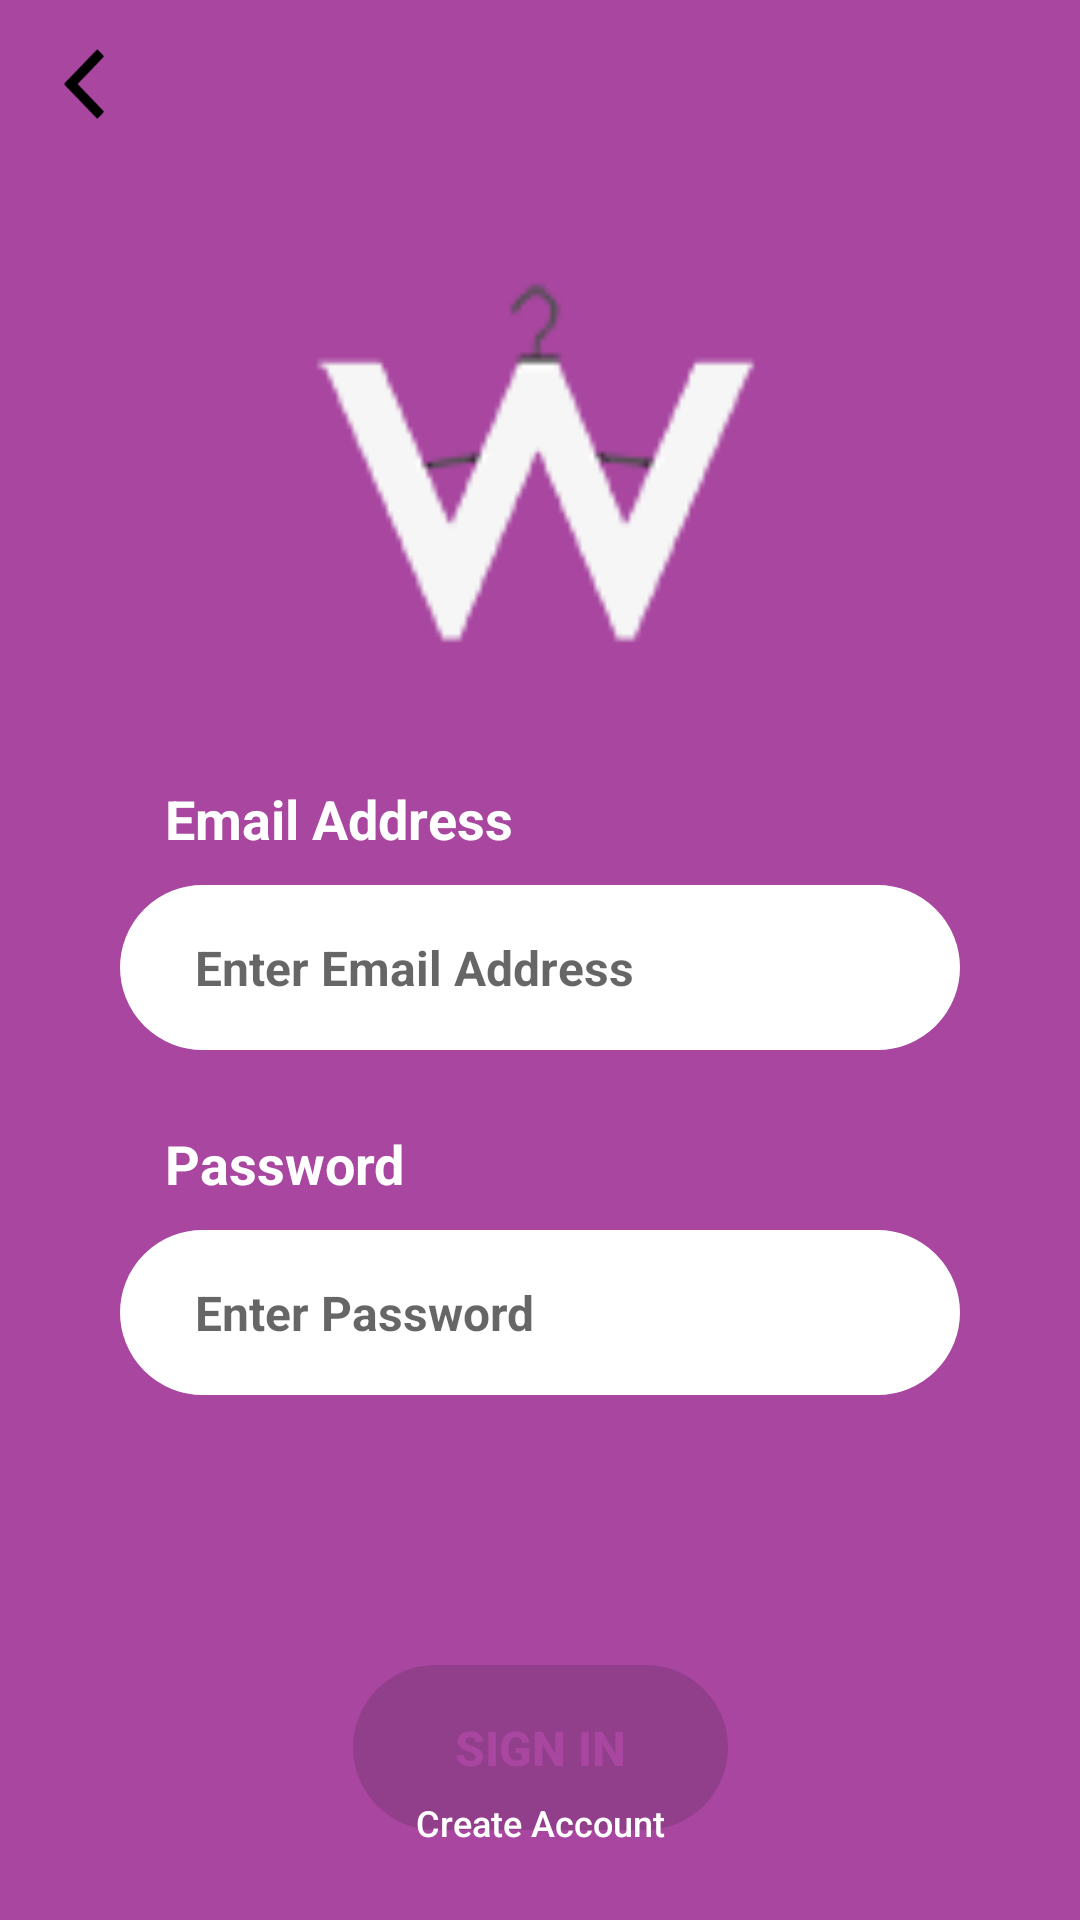

Icons on this 1080w x 1920h Android screen, each with its box as region(x1, y1, x2, y2):
back: region(64, 49, 104, 119)
